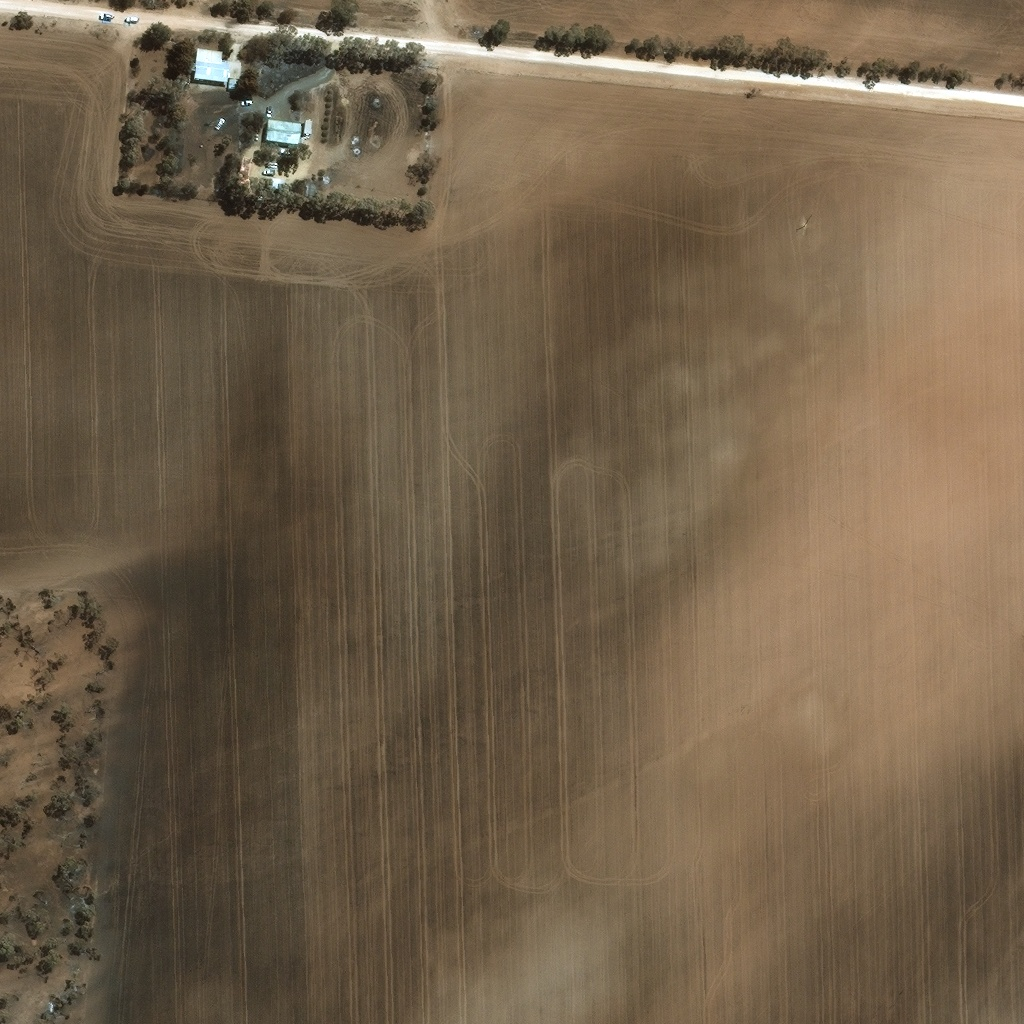0 no-damage: (189, 47, 229, 82), (264, 118, 300, 144), (266, 177, 285, 189), (303, 118, 312, 134), (228, 76, 236, 86)
1 minor-damage: (239, 156, 252, 187)
